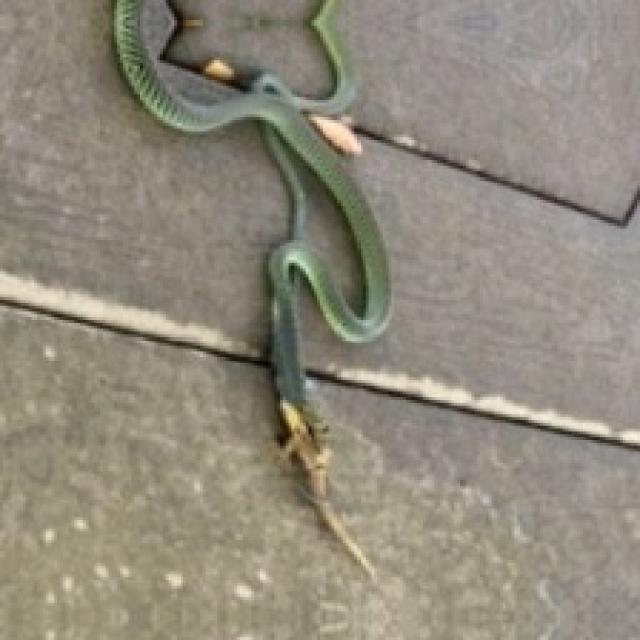paradise tree snake: (114, 0, 389, 549), (294, 163, 363, 309)
